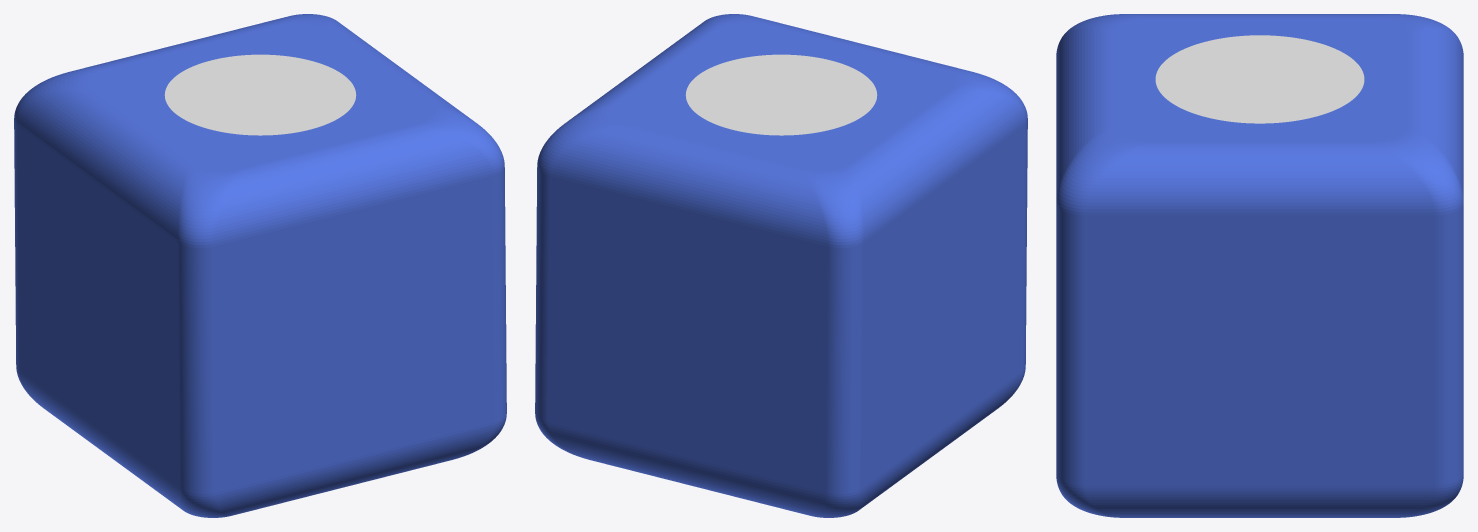
Rendered from BlueCubeCircle.fbx.
3 views of the same model, side by side, from view 1: azimuth 30°, elevation 25°; view 2: azimuth 150°, elevation 25°; view 3: azimuth 270°, elevation 25° (orthographic). The views are drawn at different scales.
Visible parts, largest first — view 1: Circle.; view 2: Circle.; view 3: Circle..
Part boxes in pixels (x1,y1,x2,y2): Circle.: (14, 14, 506, 517); Circle.: (535, 14, 1027, 517); Circle.: (1056, 14, 1463, 517).
Bounding box in the file's own units: 201 × 202 × 200.
